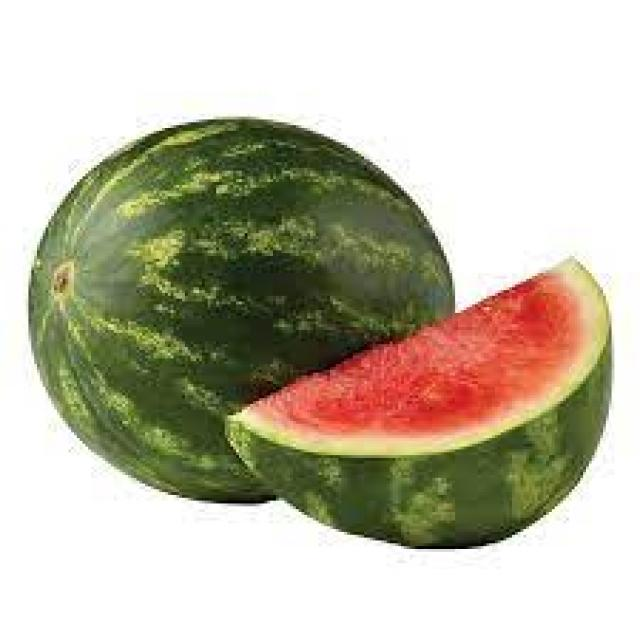watermelon: (228, 262, 612, 549), (34, 122, 455, 319), (28, 120, 230, 520)
